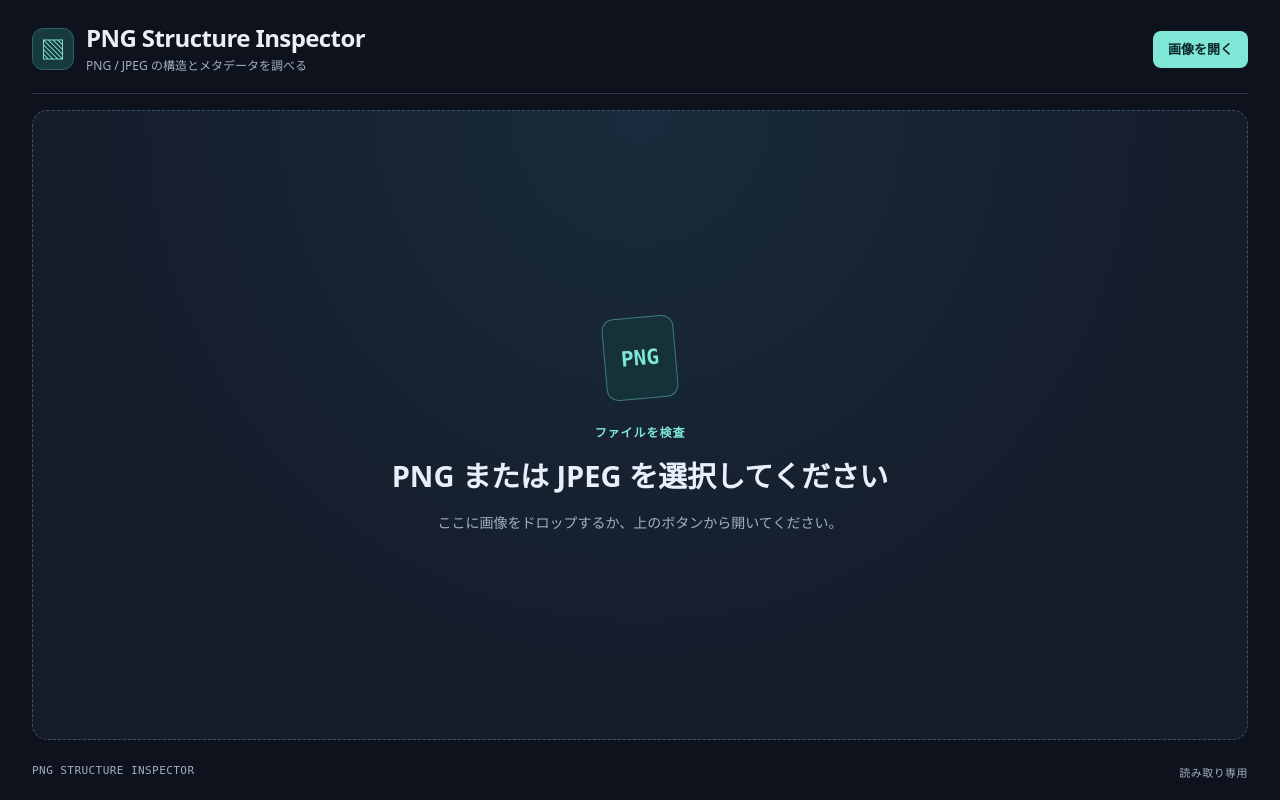
Scenario: opens a dropped PNG and replaces the previous document
Later steps or results of the test are not shown.
Click the button "画像を開く" at (1200, 49), box [1153, 31, 1248, 68]
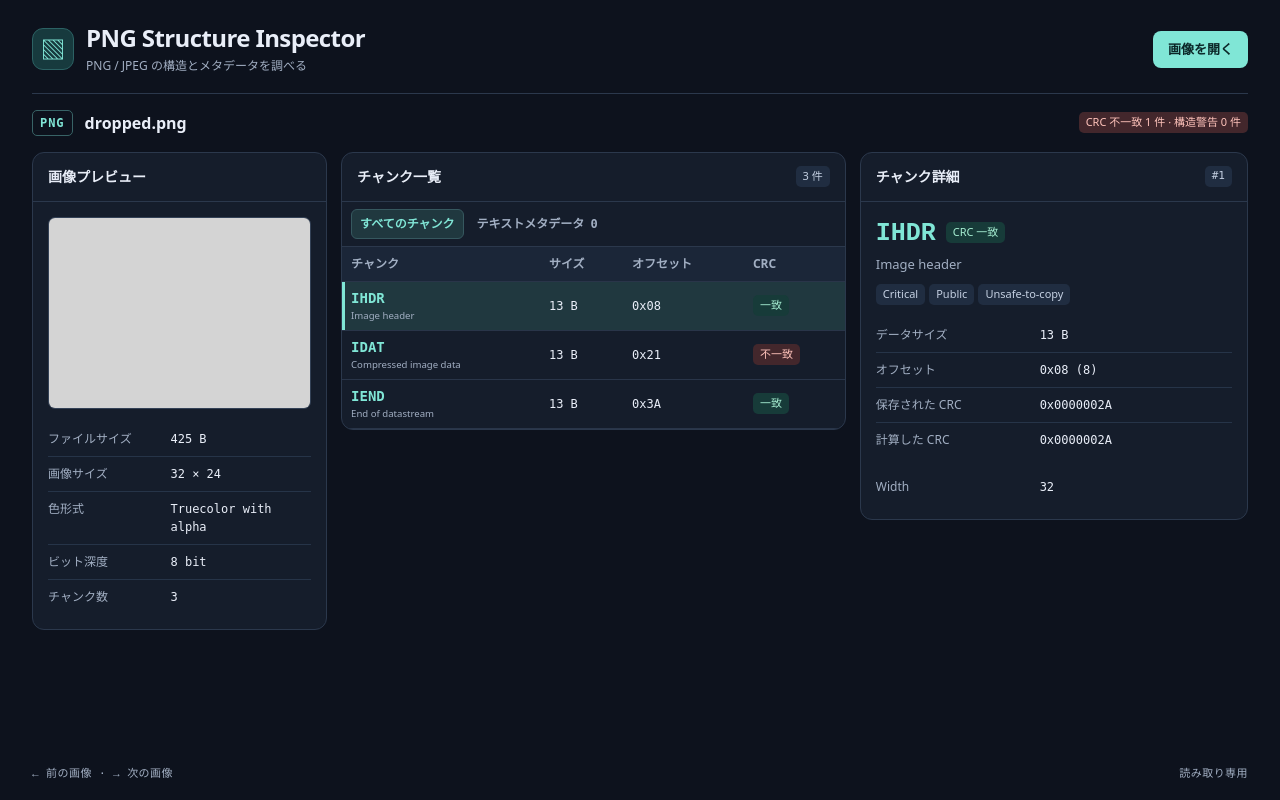
Expected: the text "dropped.png" is shown, [85, 111, 187, 135]
